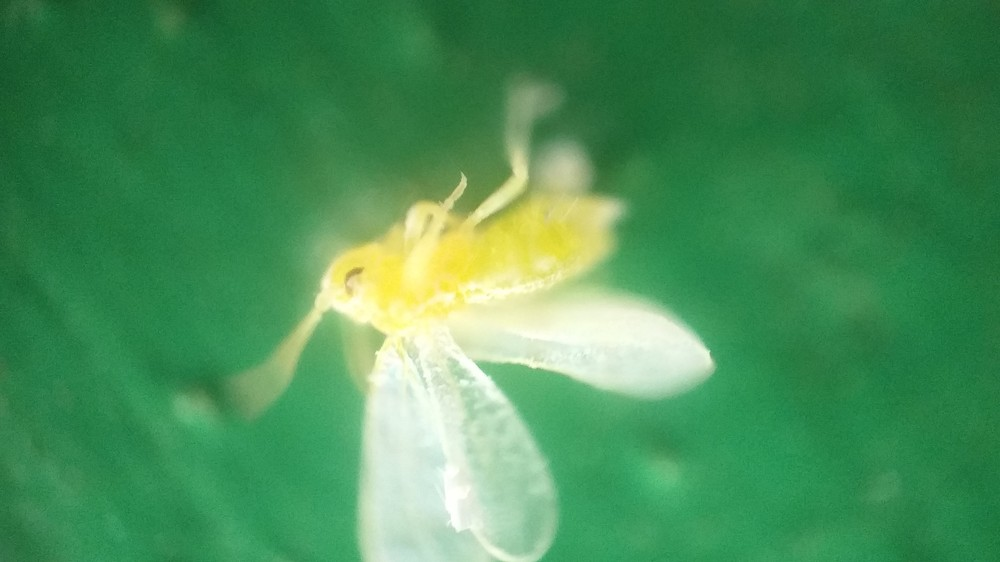Mosca Blanca: (224, 76, 739, 562)
